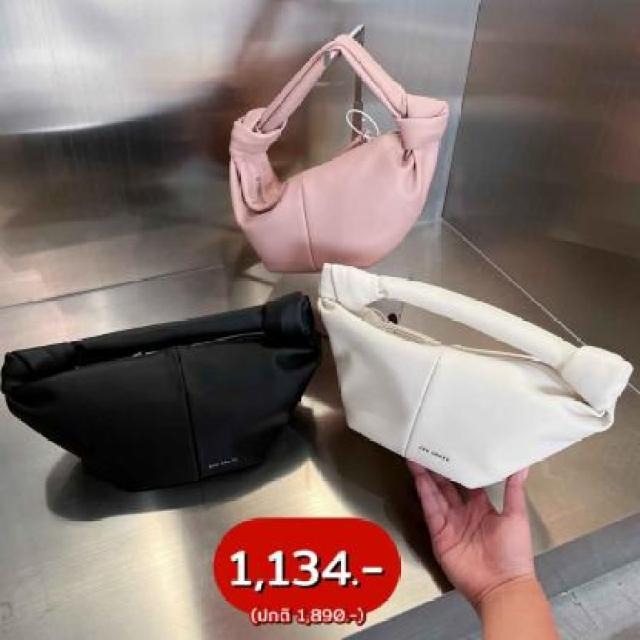Bag: (307, 230, 636, 504), (6, 288, 352, 526), (163, 37, 463, 306)
